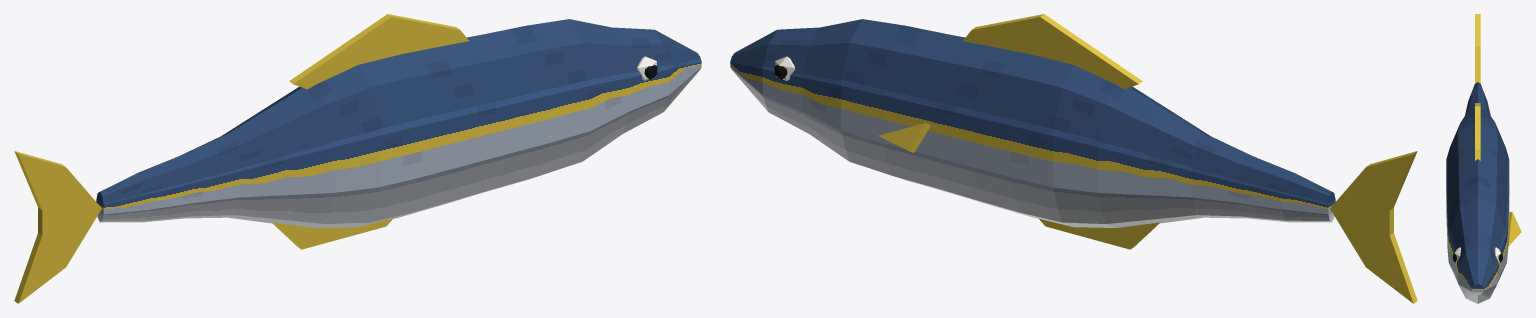
File: yellowtail_kingfish.glb
3 views of the same model, side by side, from view 1: azimuth 30°, elevation 25°; view 2: azimuth 150°, elevation 25°; view 3: azimuth 270°, elevation 25° (orthographic). The views are drawn at different scales.
Visible parts, largest first — view 1: fish_yellowtail_kingfish; view 2: fish_yellowtail_kingfish; view 3: fish_yellowtail_kingfish.
Boxes of the visible parts, x1,y1,x2,y2 form: fish_yellowtail_kingfish: (14, 14, 701, 303); fish_yellowtail_kingfish: (730, 14, 1417, 303); fish_yellowtail_kingfish: (1446, 14, 1521, 303).
Size of the model in its own units: 1.14 by 0.337 by 0.1619.
4 materials, 1 textured.
